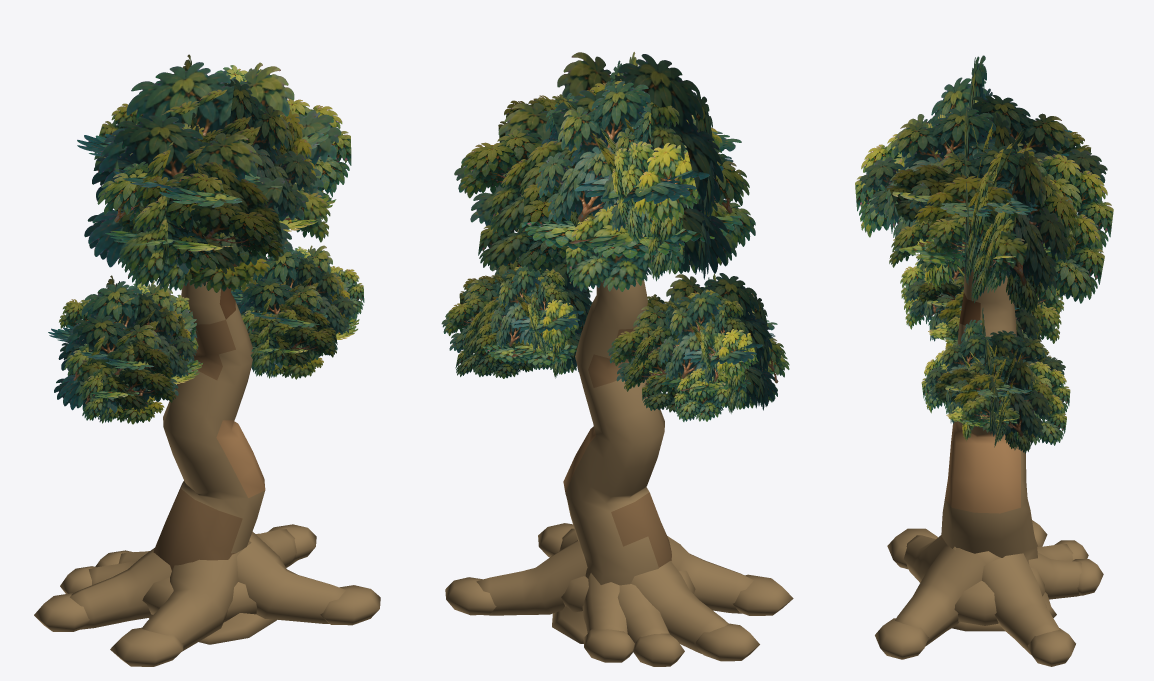
Rendered from TREE_EUCALYPTUS_001_v014_LOD_GAMEPLAY.glb.
The picture shows the model from 3 angles, left to right: view 1: azimuth 30°, elevation 25°; view 2: azimuth 150°, elevation 25°; view 3: azimuth 270°, elevation 25°; orthographic projection. The views are drawn at different scales.
Visible parts, largest first — view 1: TREE_EUCALYPTUS_001_GAMEPLAY_AUTHORED_FOLIAGE_ISLANDS, TREE_EUCALYPTUS_001_GAMEPLAY_MAIN_TRUNK, TREE_EUCALYPTUS_001_GAMEPLAY_ROOT_FRONT_LEFT, TREE_EUCALYPTUS_001_GAMEPLAY_ROOT_FRONT_RIGHT, TREE_EUCALYPTUS_001_GAMEPLAY_ROOT_LONG_LEFT, TREE_EUCALYPTUS_001_GAMEPLAY_ROOT_TOE_FRONT_LEFT, TREE_EUCALYPTUS_001_GAMEPLAY_ROOT_TOE_FRONT_RIGHT, TREE_EUCALYPTUS_001_GAMEPLAY_ROOT_TOE_LONG_LEFT, TREE_EUCALYPTUS_001_GAMEPLAY_BROAD_PLANTED_ROOT_MOUND, TREE_EUCALYPTUS_001_GAMEPLAY_SCULPTED_ROOT_COLLAR, TREE_EUCALYPTUS_001_GAMEPLAY_ROOT_RIGHT_SIDE, TREE_EUCALYPTUS_001_GAMEPLAY_ROOT_TOE_RIGHT_SIDE (+1 smaller); view 2: TREE_EUCALYPTUS_001_GAMEPLAY_AUTHORED_FOLIAGE_ISLANDS, TREE_EUCALYPTUS_001_GAMEPLAY_MAIN_TRUNK, TREE_EUCALYPTUS_001_GAMEPLAY_ROOT_RIGHT_SIDE, TREE_EUCALYPTUS_001_GAMEPLAY_ROOT_LONG_LEFT, TREE_EUCALYPTUS_001_GAMEPLAY_ROOT_FRONT_LEFT, TREE_EUCALYPTUS_001_GAMEPLAY_ROOT_REAR_SHORT, TREE_EUCALYPTUS_001_GAMEPLAY_ROOT_TOE_LONG_LEFT, TREE_EUCALYPTUS_001_GAMEPLAY_ROOT_LEFT_REAR, TREE_EUCALYPTUS_001_GAMEPLAY_ROOT_TOE_FRONT_LEFT, TREE_EUCALYPTUS_001_GAMEPLAY_ROOT_TOE_REAR_SHORT, TREE_EUCALYPTUS_001_GAMEPLAY_ROOT_TOE_RIGHT_SIDE, TREE_EUCALYPTUS_001_GAMEPLAY_ROOT_TOE_LEFT_REAR (+3 smaller); view 3: TREE_EUCALYPTUS_001_GAMEPLAY_AUTHORED_FOLIAGE_ISLANDS, TREE_EUCALYPTUS_001_GAMEPLAY_MAIN_TRUNK, TREE_EUCALYPTUS_001_GAMEPLAY_ROOT_FRONT_RIGHT, TREE_EUCALYPTUS_001_GAMEPLAY_ROOT_RIGHT_SIDE, TREE_EUCALYPTUS_001_GAMEPLAY_ROOT_REAR_SHORT, TREE_EUCALYPTUS_001_GAMEPLAY_BROAD_PLANTED_ROOT_MOUND, TREE_EUCALYPTUS_001_GAMEPLAY_ROOT_TOE_FRONT_RIGHT, TREE_EUCALYPTUS_001_GAMEPLAY_ROOT_TOE_RIGHT_SIDE, TREE_EUCALYPTUS_001_GAMEPLAY_ROOT_FRONT_LEFT, TREE_EUCALYPTUS_001_GAMEPLAY_ROOT_TOE_FRONT_LEFT, TREE_EUCALYPTUS_001_GAMEPLAY_ROOT_TOE_REAR_SHORT, TREE_EUCALYPTUS_001_GAMEPLAY_SCULPTED_ROOT_COLLAR (+1 smaller).
Part boxes in pixels (x1,y1,x2,y2): TREE_EUCALYPTUS_001_GAMEPLAY_AUTHORED_FOLIAGE_ISLANDS: (48,54,364,424); TREE_EUCALYPTUS_001_GAMEPLAY_MAIN_TRUNK: (153,281,265,570); TREE_EUCALYPTUS_001_GAMEPLAY_ROOT_FRONT_LEFT: (142,540,251,651); TREE_EUCALYPTUS_001_GAMEPLAY_ROOT_FRONT_RIGHT: (237,531,346,623); TREE_EUCALYPTUS_001_GAMEPLAY_ROOT_LONG_LEFT: (70,548,171,629); TREE_EUCALYPTUS_001_GAMEPLAY_ROOT_TOE_FRONT_LEFT: (110,627,183,666); TREE_EUCALYPTUS_001_GAMEPLAY_ROOT_TOE_FRONT_RIGHT: (320,585,380,625); TREE_EUCALYPTUS_001_GAMEPLAY_ROOT_TOE_LONG_LEFT: (34,593,89,631); TREE_EUCALYPTUS_001_GAMEPLAY_BROAD_PLANTED_ROOT_MOUND: (142,577,256,622); TREE_EUCALYPTUS_001_GAMEPLAY_SCULPTED_ROOT_COLLAR: (149,613,276,644); TREE_EUCALYPTUS_001_GAMEPLAY_ROOT_RIGHT_SIDE: (256,529,297,567); TREE_EUCALYPTUS_001_GAMEPLAY_ROOT_TOE_RIGHT_SIDE: (268,524,316,560); TREE_EUCALYPTUS_001_GAMEPLAY_AUTHORED_FOLIAGE_ISLANDS: (441,52,789,421); TREE_EUCALYPTUS_001_GAMEPLAY_MAIN_TRUNK: (563,255,671,585); TREE_EUCALYPTUS_001_GAMEPLAY_ROOT_RIGHT_SIDE: (476,540,587,615); TREE_EUCALYPTUS_001_GAMEPLAY_ROOT_LONG_LEFT: (631,561,728,653); TREE_EUCALYPTUS_001_GAMEPLAY_ROOT_FRONT_LEFT: (667,536,753,613); TREE_EUCALYPTUS_001_GAMEPLAY_ROOT_REAR_SHORT: (582,573,627,633); TREE_EUCALYPTUS_001_GAMEPLAY_ROOT_TOE_LONG_LEFT: (694,623,759,661); TREE_EUCALYPTUS_001_GAMEPLAY_ROOT_LEFT_REAR: (617,584,669,642); TREE_EUCALYPTUS_001_GAMEPLAY_ROOT_TOE_FRONT_LEFT: (733,574,793,615); TREE_EUCALYPTUS_001_GAMEPLAY_ROOT_TOE_REAR_SHORT: (583,629,634,662); TREE_EUCALYPTUS_001_GAMEPLAY_ROOT_TOE_RIGHT_SIDE: (445,577,496,615); TREE_EUCALYPTUS_001_GAMEPLAY_ROOT_TOE_LEFT_REAR: (633,633,684,666); TREE_EUCALYPTUS_001_GAMEPLAY_AUTHORED_FOLIAGE_ISLANDS: (855,55,1113,453); TREE_EUCALYPTUS_001_GAMEPLAY_MAIN_TRUNK: (941,270,1037,564); TREE_EUCALYPTUS_001_GAMEPLAY_ROOT_FRONT_RIGHT: (895,546,1005,646); TREE_EUCALYPTUS_001_GAMEPLAY_ROOT_RIGHT_SIDE: (981,553,1059,655); TREE_EUCALYPTUS_001_GAMEPLAY_ROOT_REAR_SHORT: (1028,553,1082,599); TREE_EUCALYPTUS_001_GAMEPLAY_BROAD_PLANTED_ROOT_MOUND: (954,567,1044,625); TREE_EUCALYPTUS_001_GAMEPLAY_ROOT_TOE_FRONT_RIGHT: (875,618,928,659); TREE_EUCALYPTUS_001_GAMEPLAY_ROOT_TOE_RIGHT_SIDE: (1028,628,1075,666); TREE_EUCALYPTUS_001_GAMEPLAY_ROOT_FRONT_LEFT: (903,535,956,582); TREE_EUCALYPTUS_001_GAMEPLAY_ROOT_TOE_FRONT_LEFT: (887,528,937,569); TREE_EUCALYPTUS_001_GAMEPLAY_ROOT_TOE_REAR_SHORT: (1072,559,1103,595); TREE_EUCALYPTUS_001_GAMEPLAY_SCULPTED_ROOT_COLLAR: (952,592,1056,631).
Size of the model in its own units: 4.13 by 6.57 by 3.3.
Materials: 5 (1 with a texture image).
